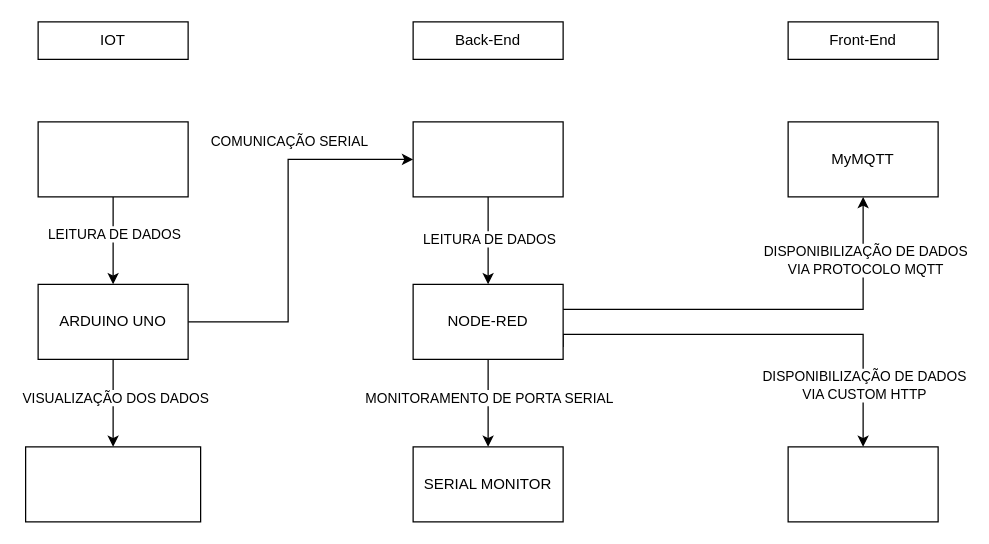
This 989x544 diagram has some shape labels left out. Each missing label, with the box of its shape:
ARDUINO IDE: (412, 121, 563, 197)
DHT22: (37, 121, 188, 197)
LCD | LEDs | BUZZER: (24, 446, 201, 522)
Tago.io: (787, 446, 938, 522)
